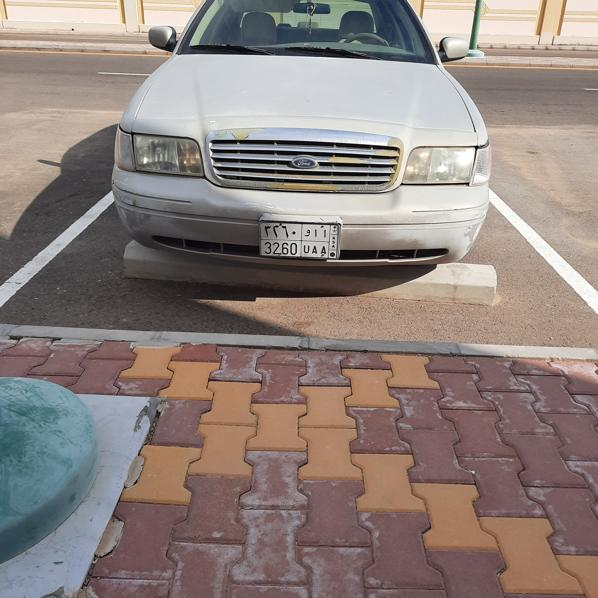numberplate: (260, 222, 339, 258)
